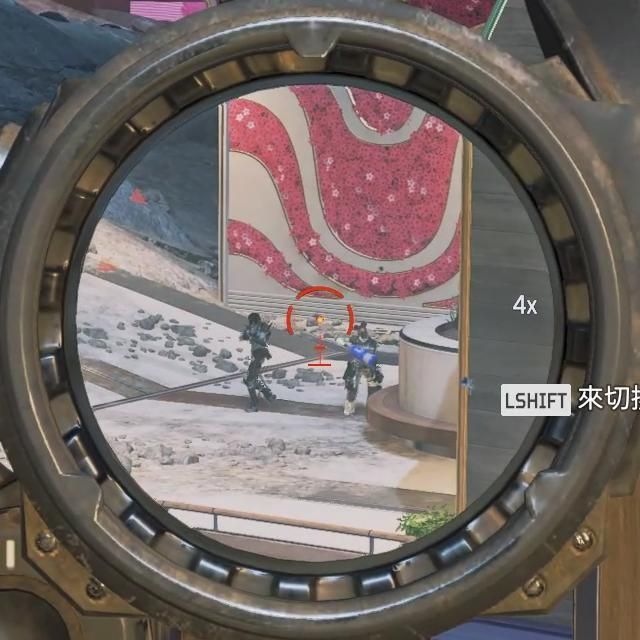avatar: (240, 309, 275, 414), (341, 319, 384, 403)
